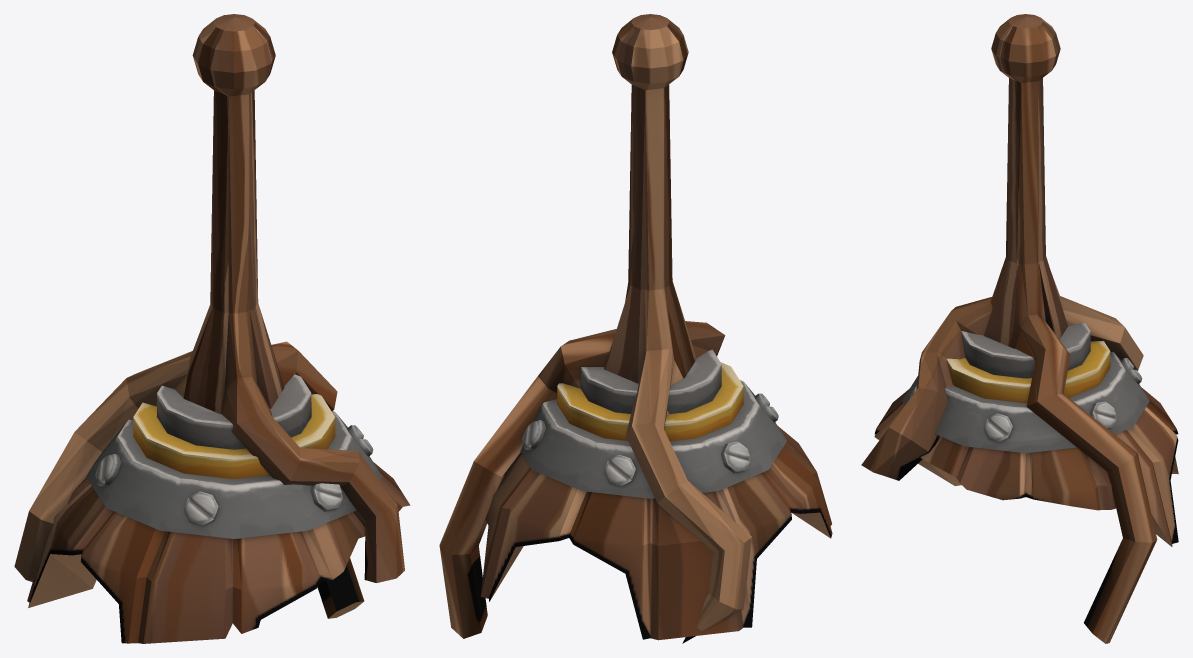
Rendered from RucheBebeilleBrk.FBX.
3 renders of one model, left to right at view 1: azimuth 30°, elevation 25°; view 2: azimuth 150°, elevation 25°; view 3: azimuth 270°, elevation 25°, orthographic. The views are drawn at different scales.
Visible parts, largest first — view 1: RucheBebeilleBrk; view 2: RucheBebeilleBrk; view 3: RucheBebeilleBrk.
Part boxes in pixels (left/top/right/bottom): RucheBebeilleBrk: left=14, top=14, right=410, bottom=643; RucheBebeilleBrk: left=439, top=14, right=832, bottom=643; RucheBebeilleBrk: left=861, top=14, right=1178, bottom=643.
Bounding box in the file's own units: 1.88 × 3.68 × 1.88.
